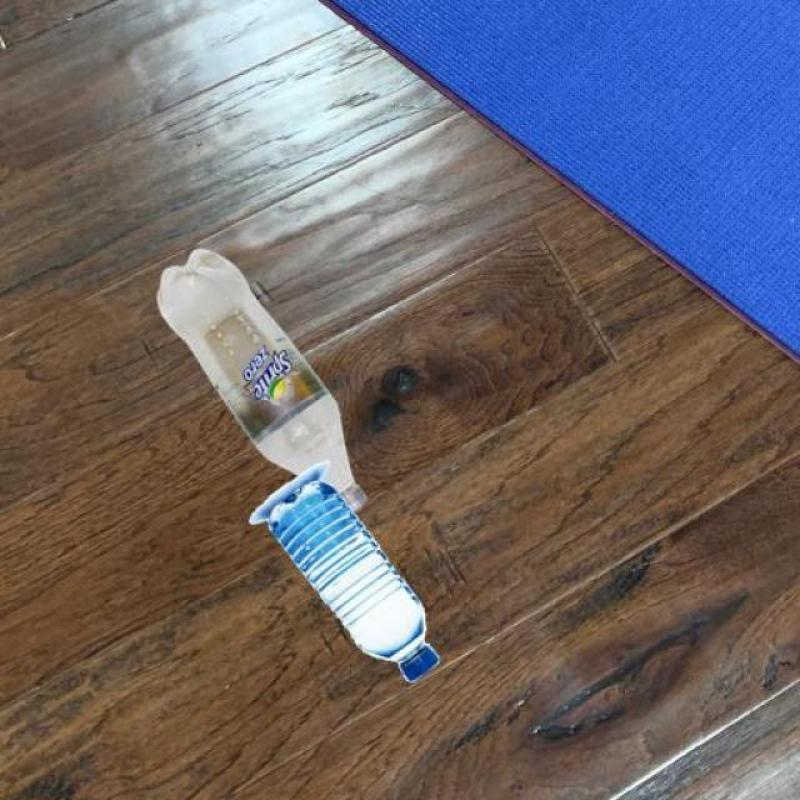botella: (151, 249, 371, 513), (264, 482, 444, 682)
